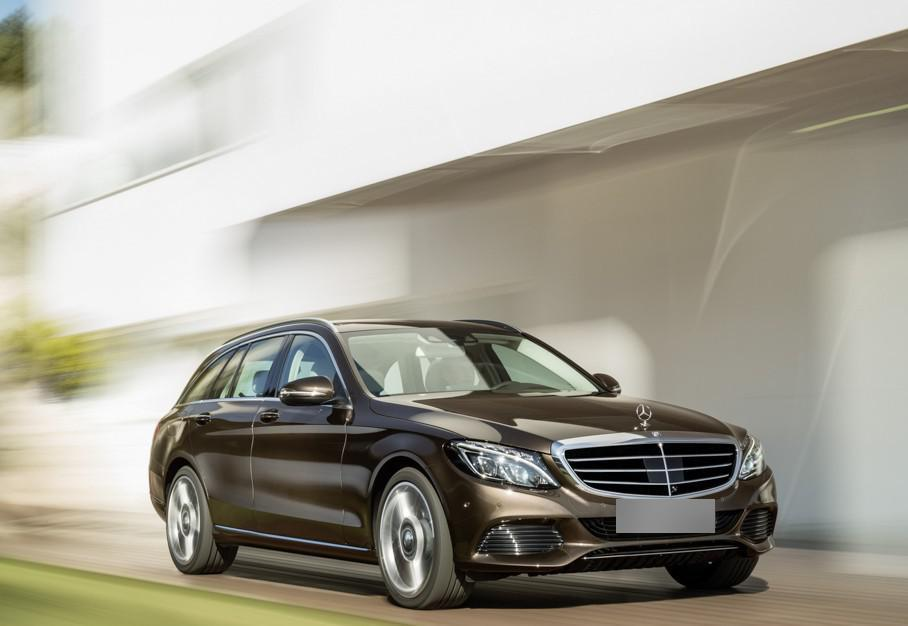Wagon: (148, 317, 779, 609)
